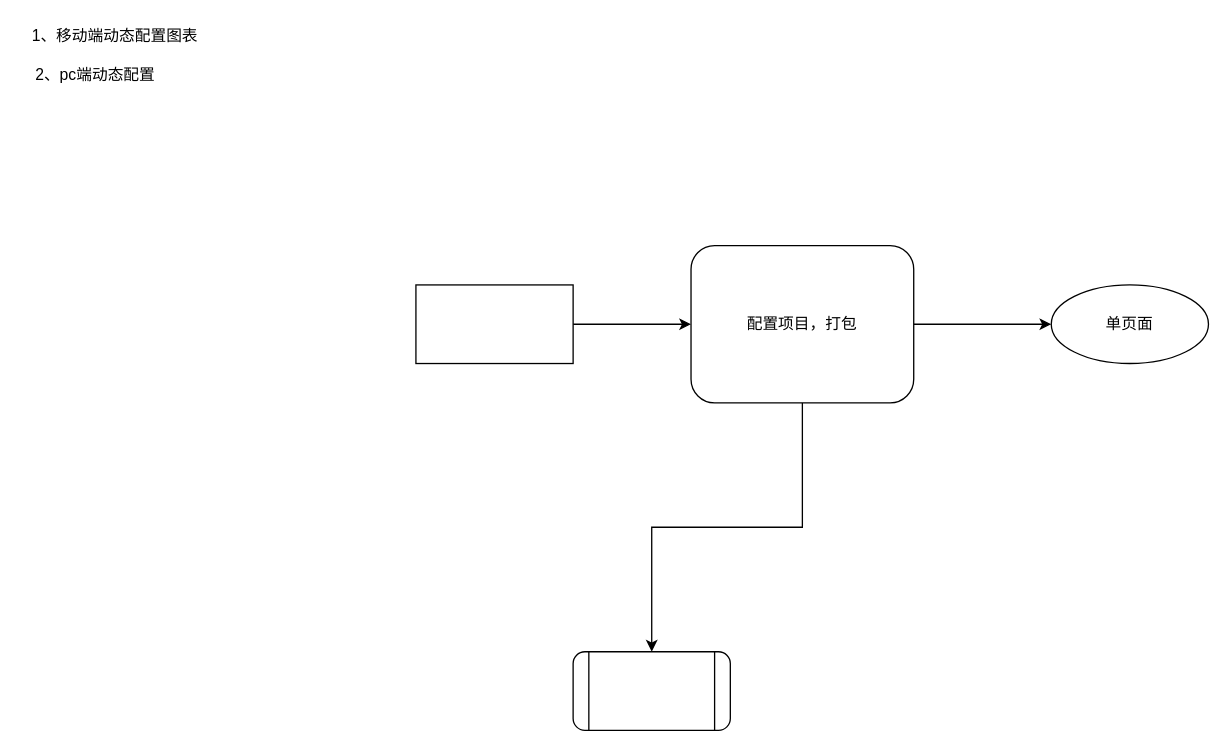
Some shapes in this 1231 by 753 pixel diagram are drawn without their labels. The box of each missing label's shape, as (x1, y1, x2, y2) in pixels:
json配置页面，服务端储存json: (572, 650, 730, 730)
用户: (415, 284, 573, 364)
